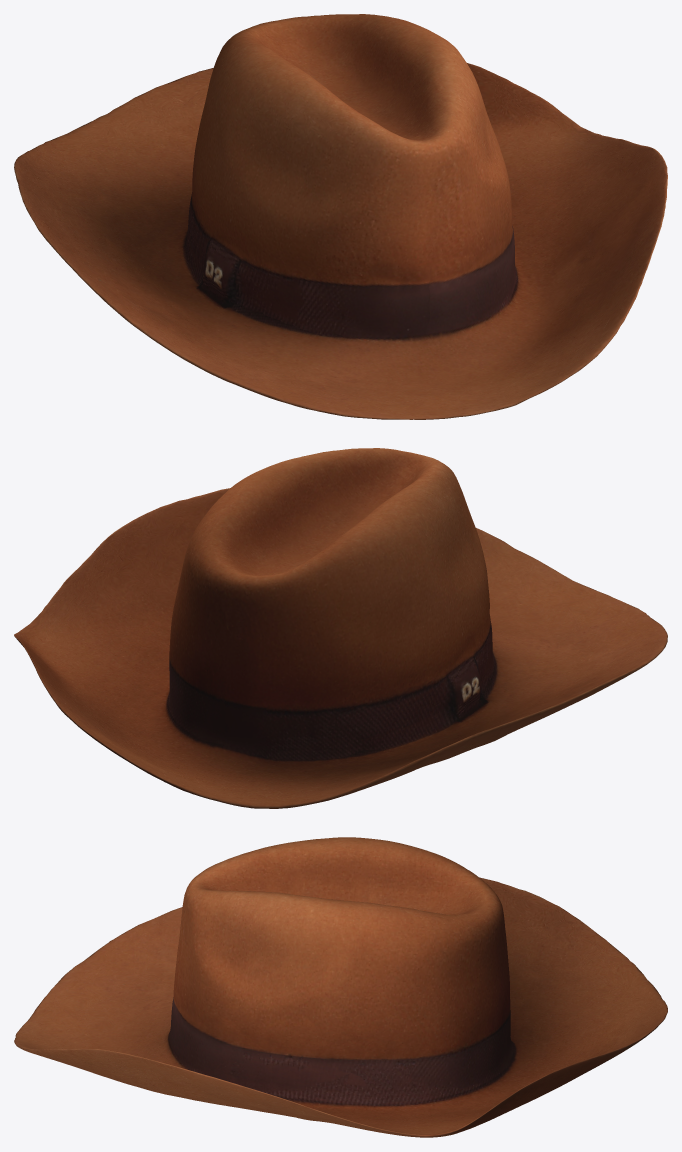
File: cowboy.glb
The picture shows the model from 3 angles, top to bottom: view 1: azimuth 30°, elevation 25°; view 2: azimuth 150°, elevation 25°; view 3: azimuth 270°, elevation 25°; orthographic projection. The views are drawn at different scales.
Parts seen in each view (by area): view 1: texturedMesh_lit_brighter_ribbon_on_original_texture.001_tex; view 2: texturedMesh_lit_brighter_ribbon_on_original_texture.001_tex; view 3: texturedMesh_lit_brighter_ribbon_on_original_texture.001_tex.
Boxes of the visible parts, box(x1,y1,x2,y2) form: texturedMesh_lit_brighter_ribbon_on_original_texture.001_tex: box(14, 14, 667, 419); texturedMesh_lit_brighter_ribbon_on_original_texture.001_tex: box(14, 448, 667, 808); texturedMesh_lit_brighter_ribbon_on_original_texture.001_tex: box(14, 837, 667, 1137).
Size of the model in its own units: 11.24 by 4.3 by 13.08.
1 material, 1 textured.
